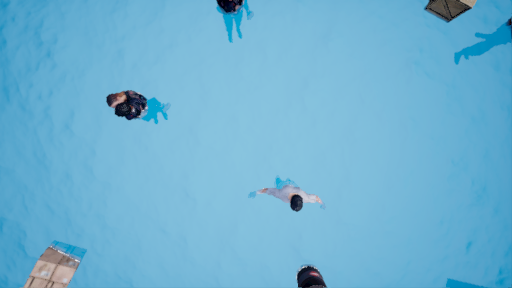person: (251, 174, 328, 219), (105, 89, 173, 131)
